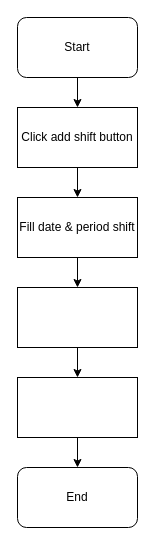
This 155x545 diagram has some shape labels left out. Each missing label, with the box of its shape:
Assign shift to a roster: (16, 376, 138, 438)
Click the unassigned shift (+): (16, 286, 138, 348)
